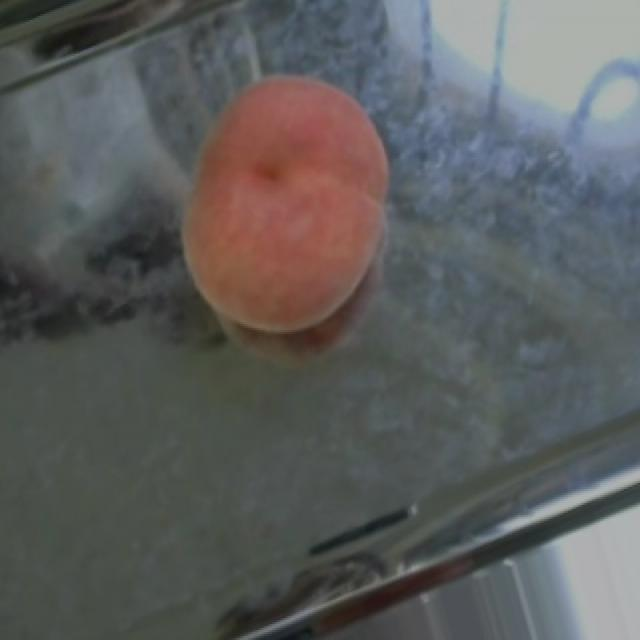Fruit: (133, 43, 430, 366)
